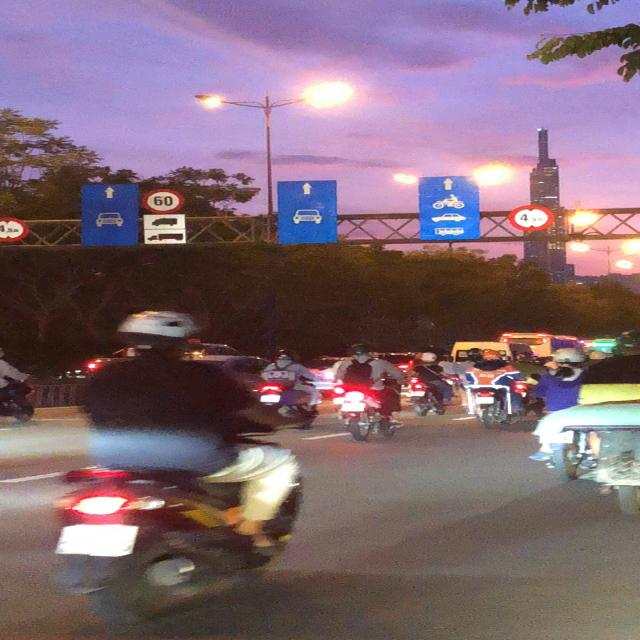Bien bao han che chieu cao: (500, 202, 562, 236), (0, 214, 41, 245)
Bien bao toc do toi da cho phep: (131, 185, 194, 214)
